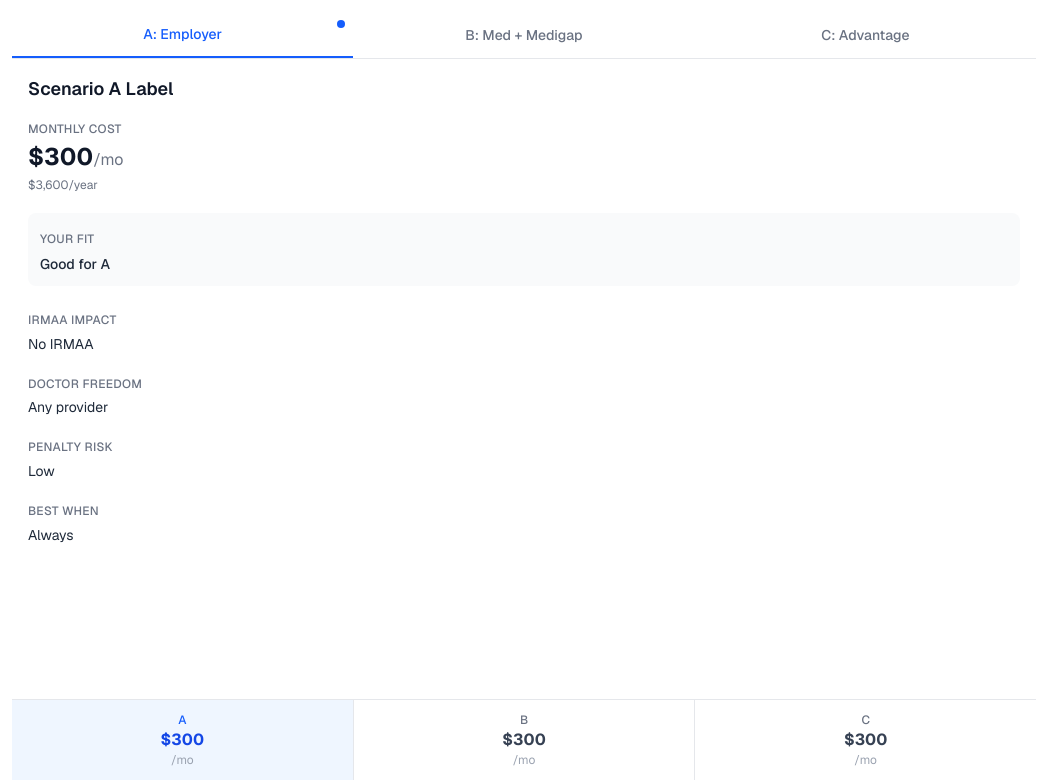
it: ScenarioTabs › updates panel content when a new tab is clicked
This screenshot has width=1048, height=780.
Expected: the text "Good for A" is shown, 40,255 -> 110,273
 Click B
Click the tab "B: Med + Medigap" at {"x": 524, "y": 35}, box 353,12 -> 695,58
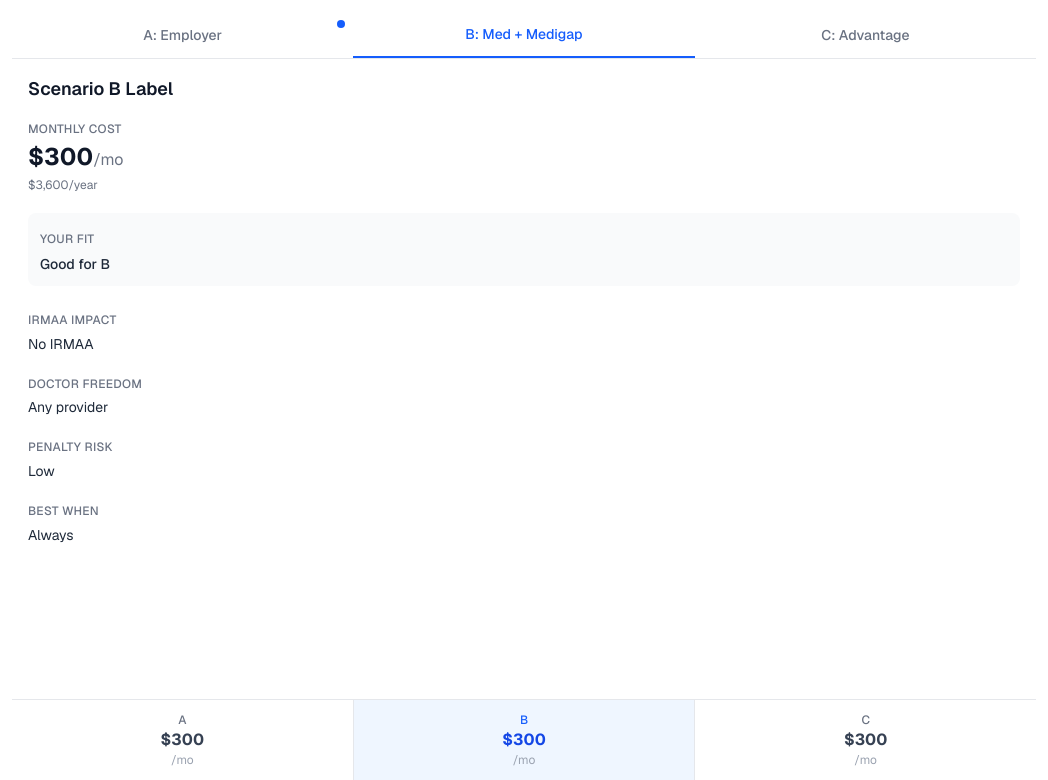
Now the text "Good for B" is shown, box 40,255 -> 110,273
